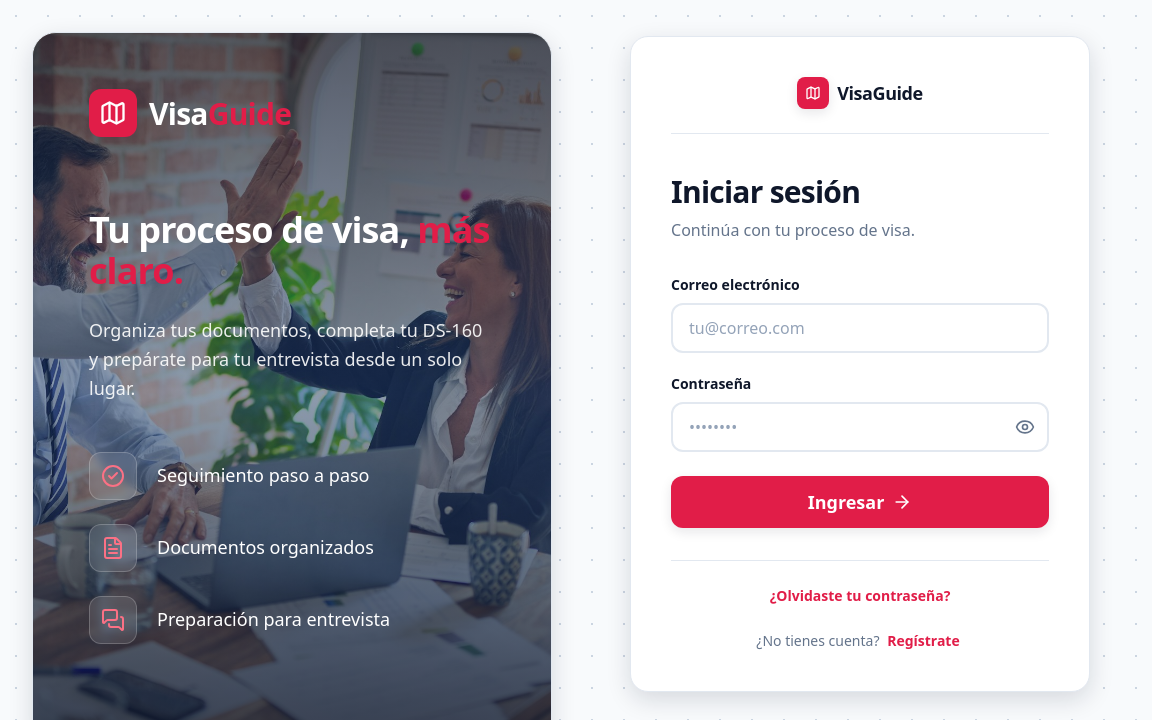
Test: pantallas de autenticación › mantiene el login real y permite mostrar la contraseña
Click the button named "Mostrar contraseña": (1025, 427) [1003,405,1047,449]
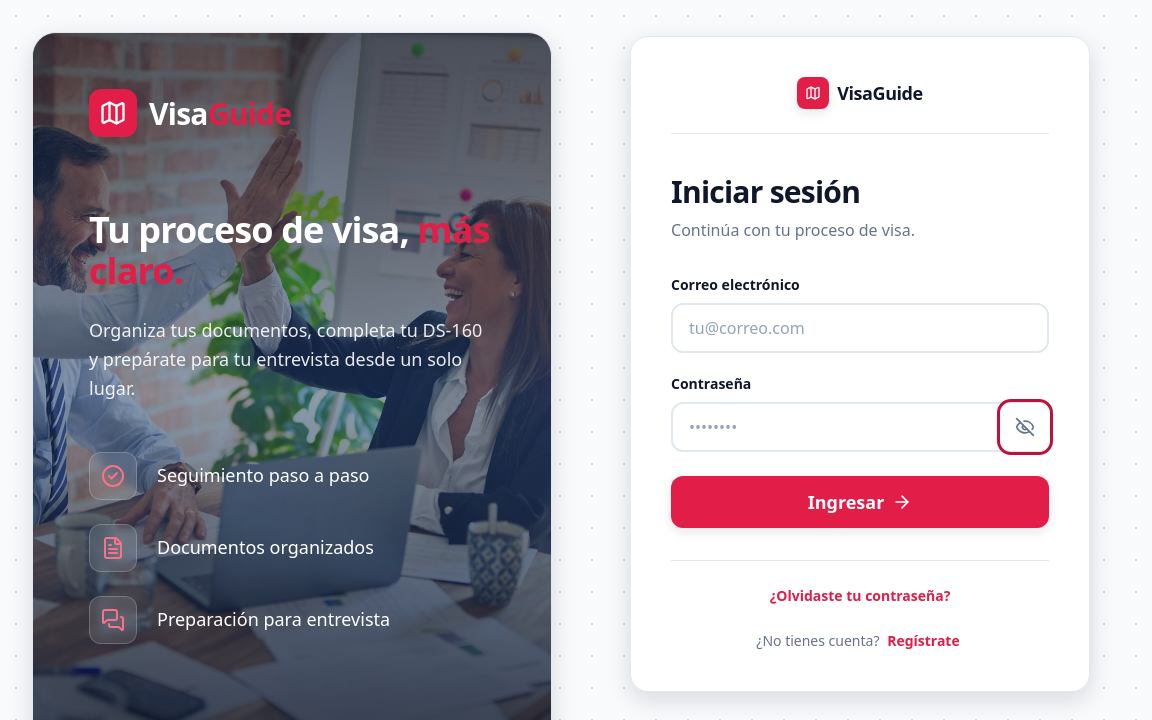
In the field labelled "Correo electrónico": (860, 328) [671,303,1049,353], type "persona@example.com"
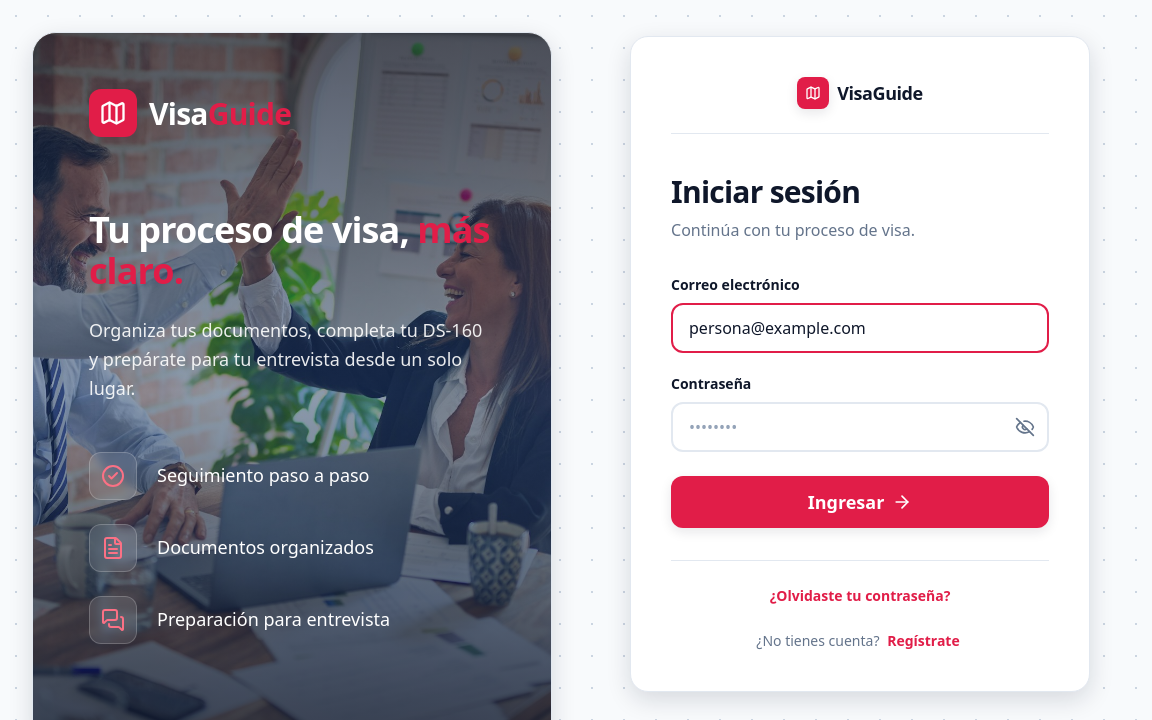
In the field labelled "Contraseña": (860, 427) [671,402,1049,452], type "secreto"
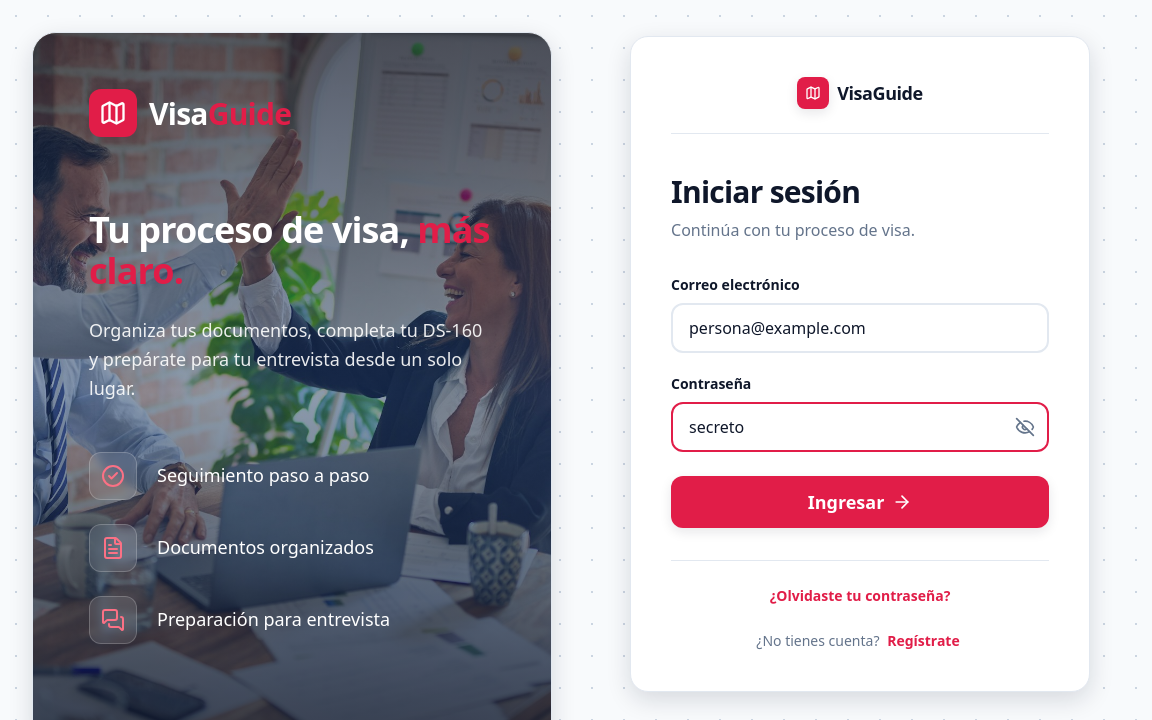
Click the button "Ingresar": (860, 502) [671,476,1049,528]
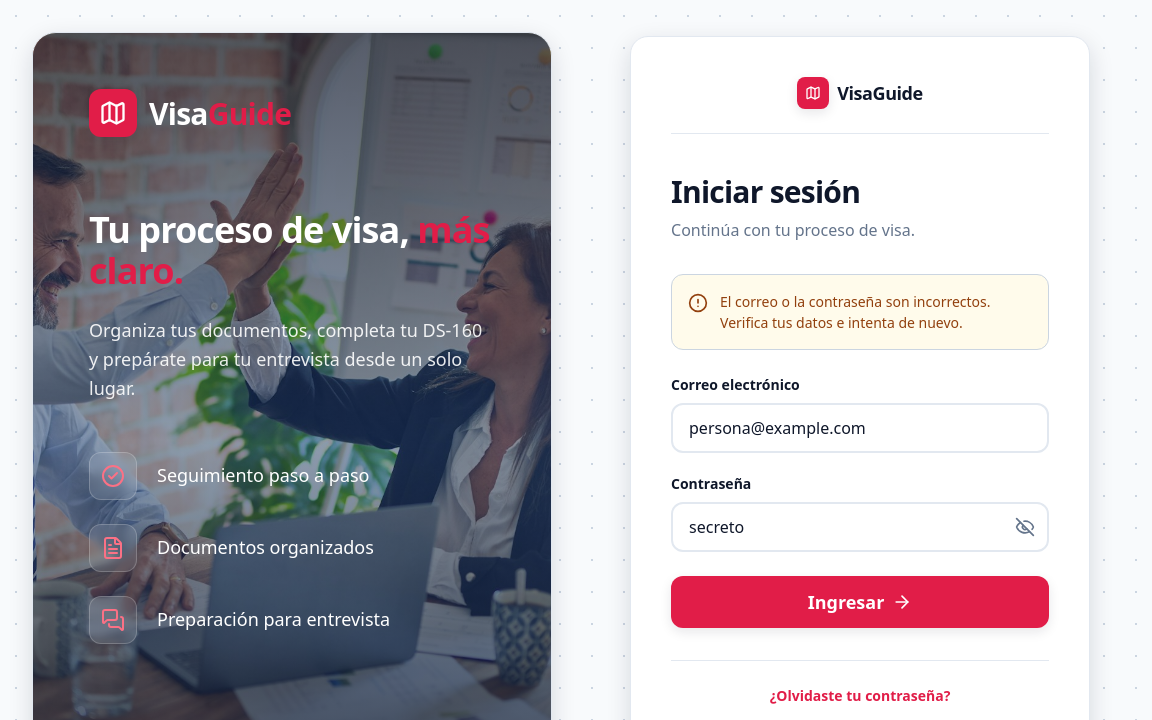
Check: the message shows "El correo o la contraseña son incorrectos. Verifica tus datos e intenta de nuevo.", box [720,292,990,332]
